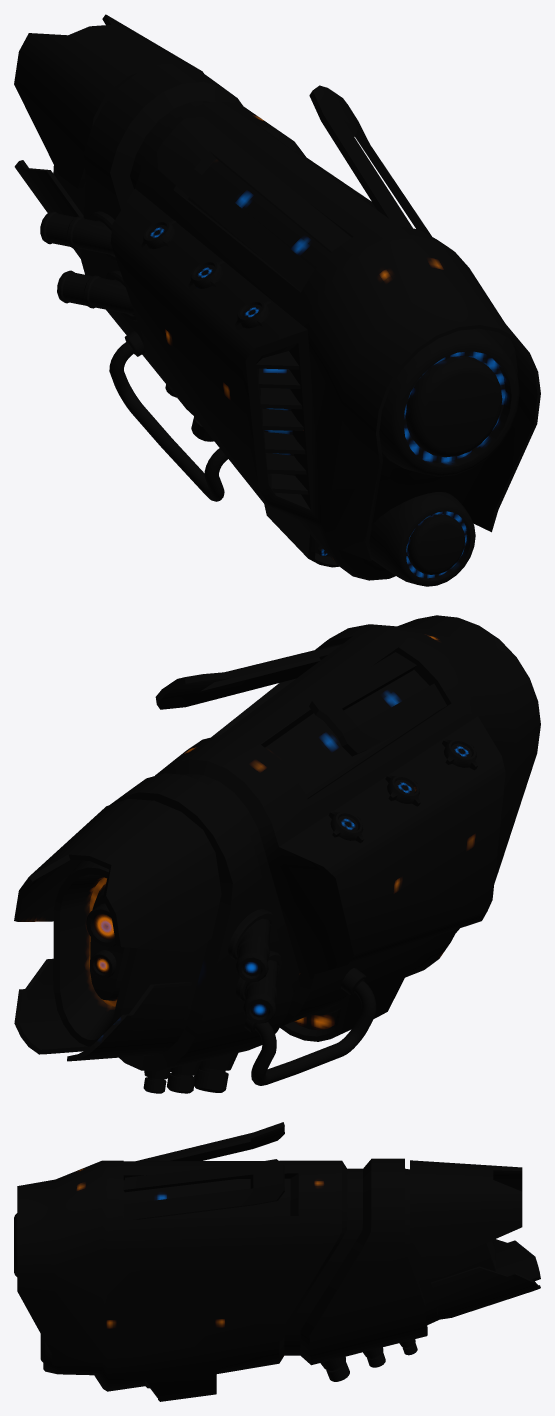
File: SM_L_Engine_4.fbx
The picture shows the model from 3 angles, top to bottom: view 1: azimuth 30°, elevation 25°; view 2: azimuth 150°, elevation 25°; view 3: azimuth 270°, elevation 25°; orthographic projection. The views are drawn at different scales.
Parts seen in each view (by area): view 1: SM_L_Engine_4; view 2: SM_L_Engine_4; view 3: SM_L_Engine_4.
Part boxes in pixels (x1,y1,x2,y2): SM_L_Engine_4: (14,14,540,586); SM_L_Engine_4: (14,615,540,1093); SM_L_Engine_4: (14,1122,540,1401).
Size of the model in its own units: 44.07 by 72.46 by 135.
